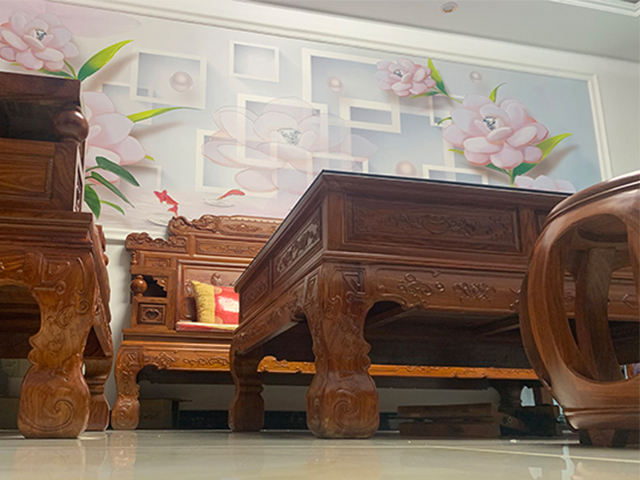sofa: (1, 71, 113, 439), (109, 214, 283, 432)
stool: (517, 169, 640, 450)
table: (229, 169, 573, 440)
